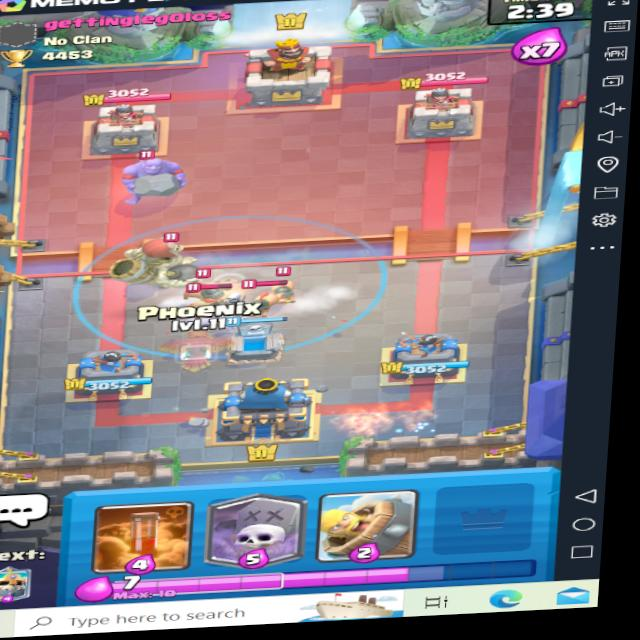bowler: (114, 144, 188, 203)
giant-skeleton: (96, 230, 202, 285)
royal-hogs: (255, 266, 301, 308), (180, 270, 230, 304), (245, 278, 281, 320)
